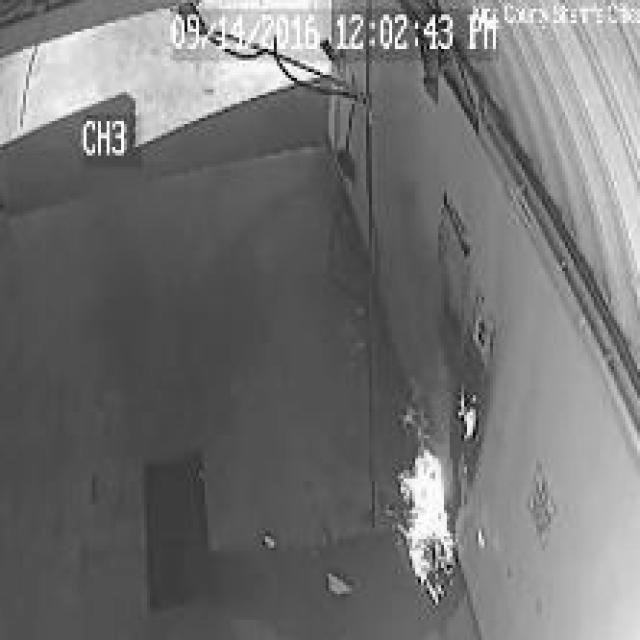smoke: (390, 446, 462, 604)
